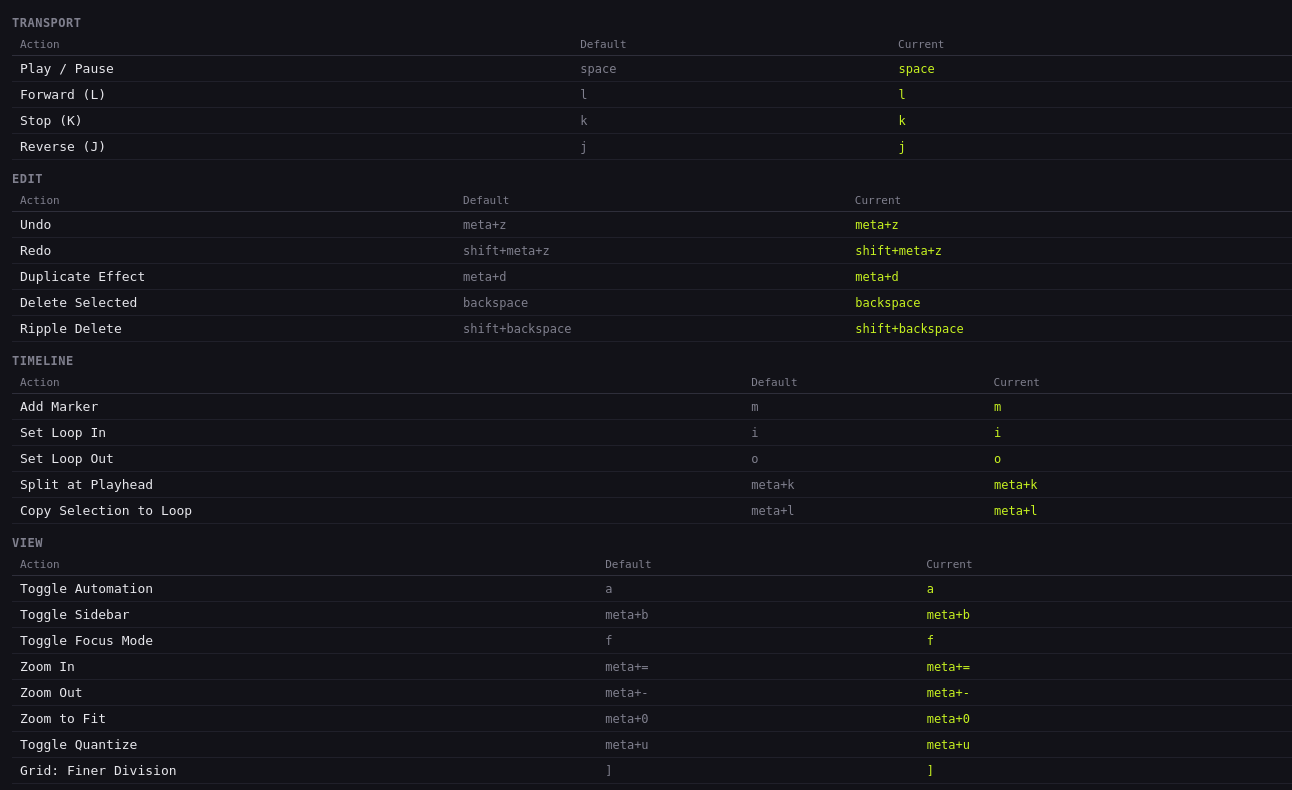
Test: ShortcutEditor › Escape cancels capture
The width and height of the screenshot is (1292, 790).
Click the 1st cell with class "shortcut-editor__current" at (1049, 68), box [890, 56, 1208, 82]
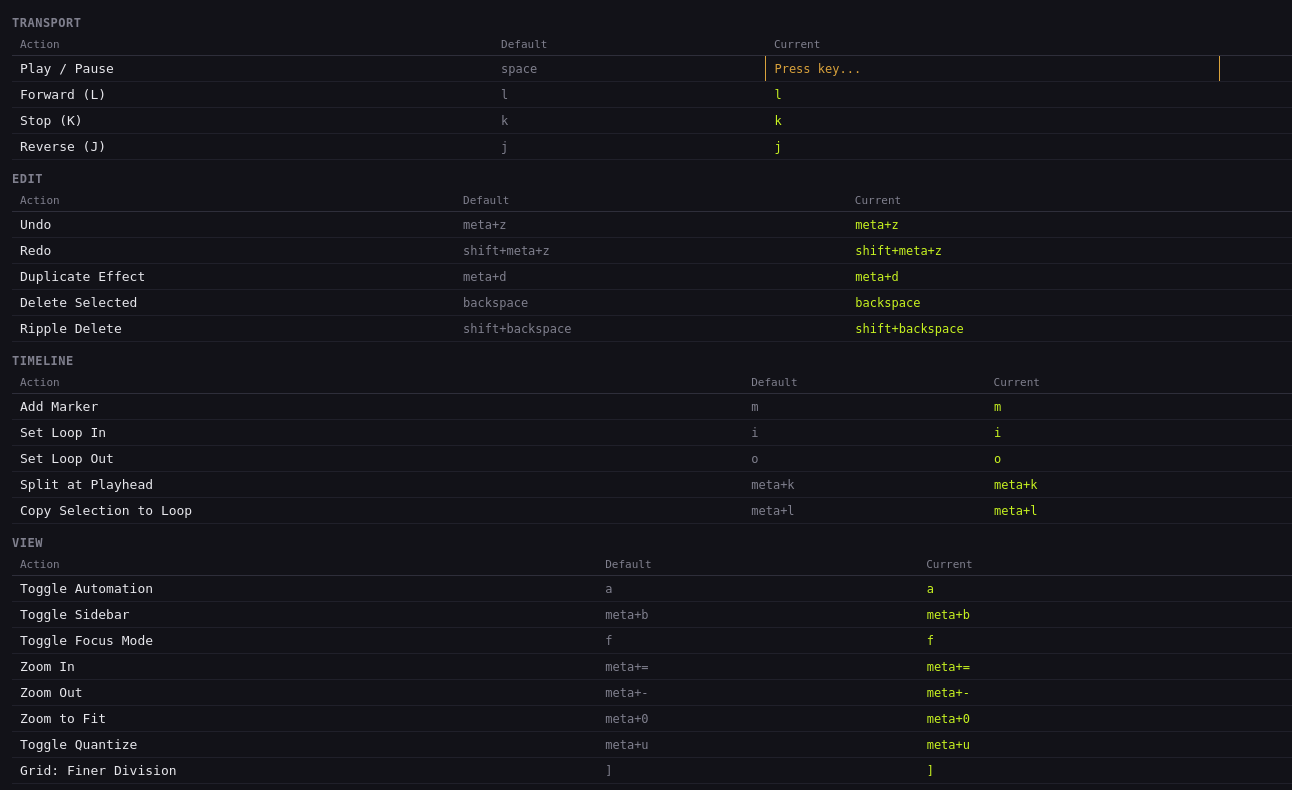
Check: the cell with class "shortcut-editor__current" reads "Press key...", box [774, 62, 861, 76]
Press Escape
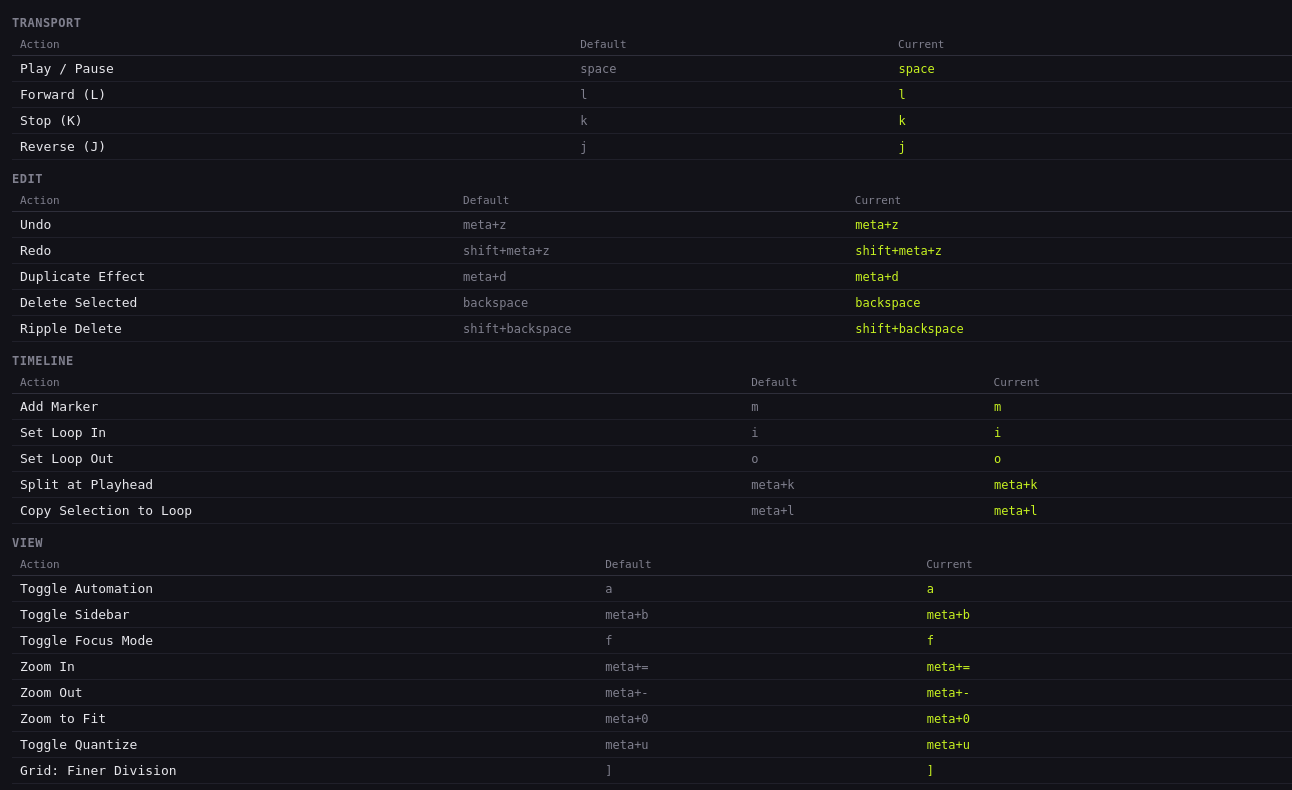
Check: the 2nd cell with class "shortcut-editor__current" reads "space", box [899, 62, 935, 76]
